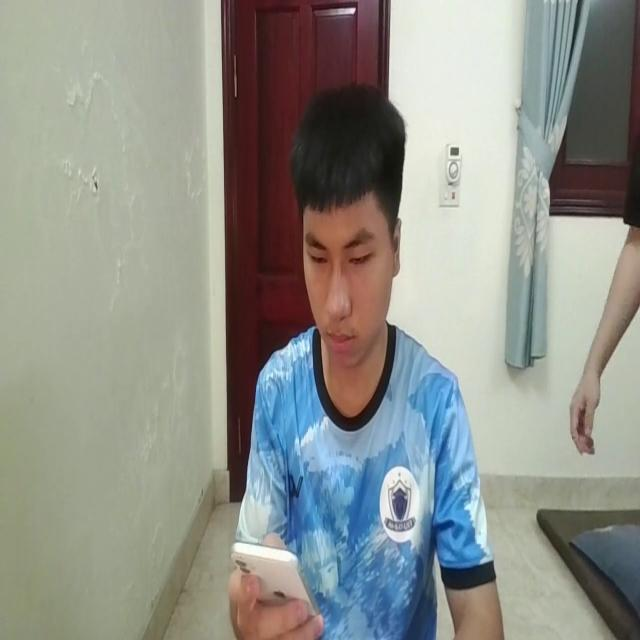phone: (231, 537, 319, 637)
student: (229, 68, 501, 640)
